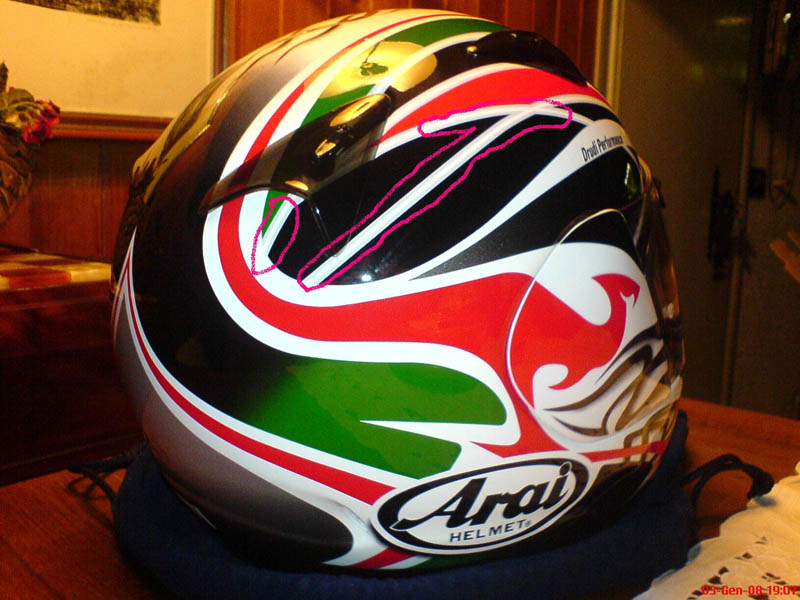helmet: (136, 29, 708, 521)
